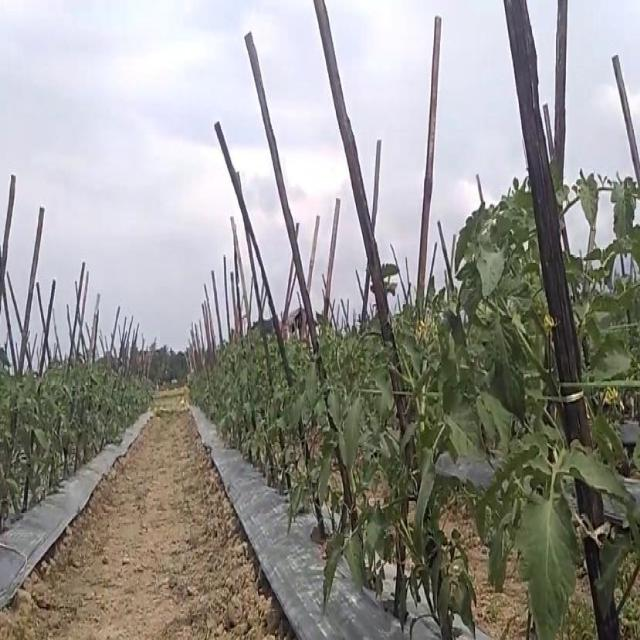row: (0, 402, 297, 640)
